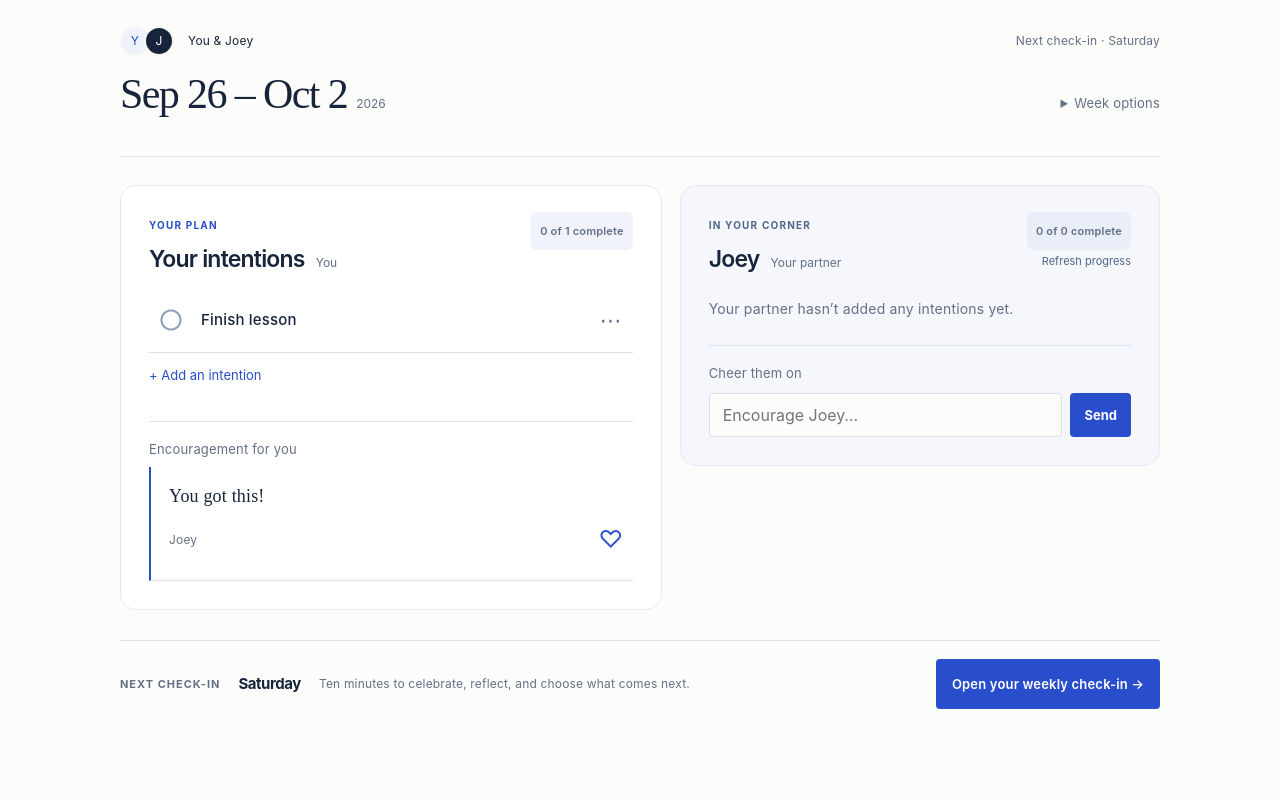
Test: received encouragement stays with own intentions and goal entry remains accessible
Expected: the text "You got this!" is shown, [169,486,264,506]
Click the button "+ Add an intention" at (205, 375), box [149,353,262,397]
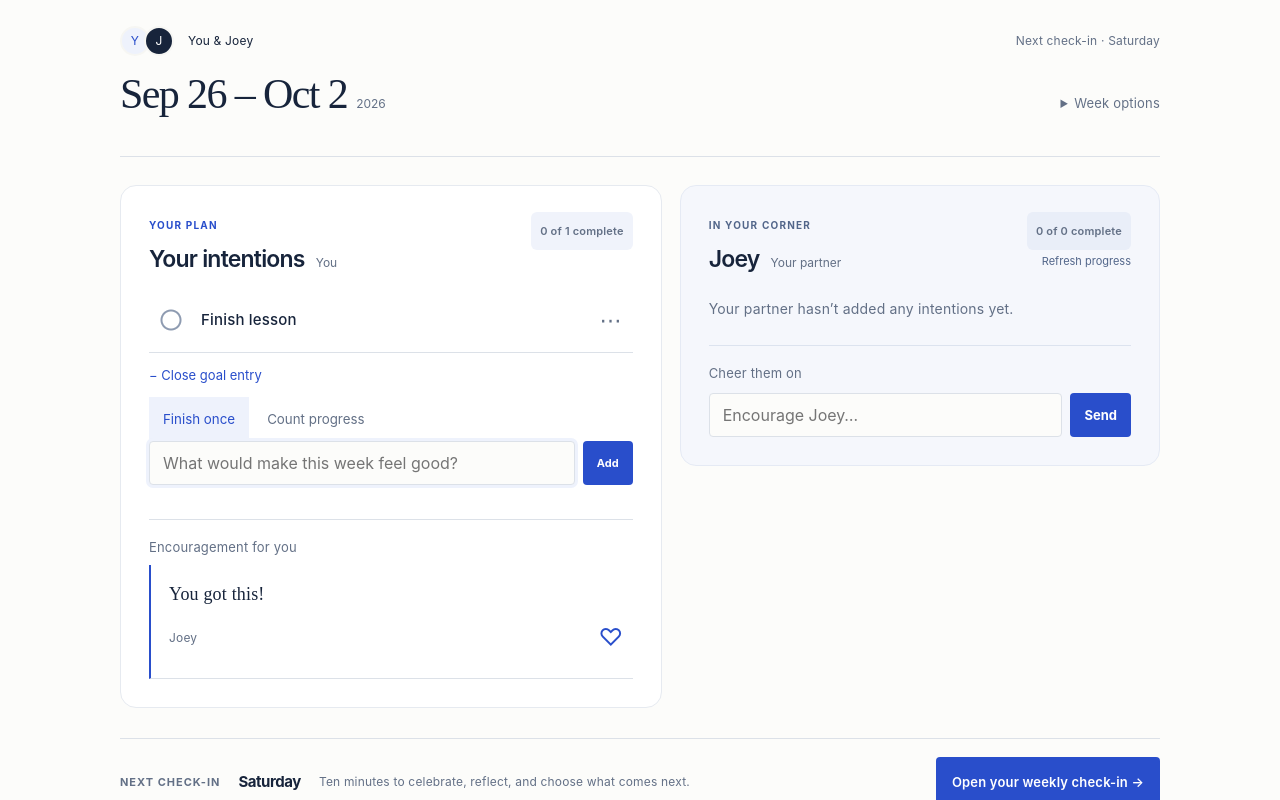
Expected: the field named "One-time intention" is shown, [149,441,575,485]
Click the button "Count progress" at (316, 419), box [253,397,378,441]
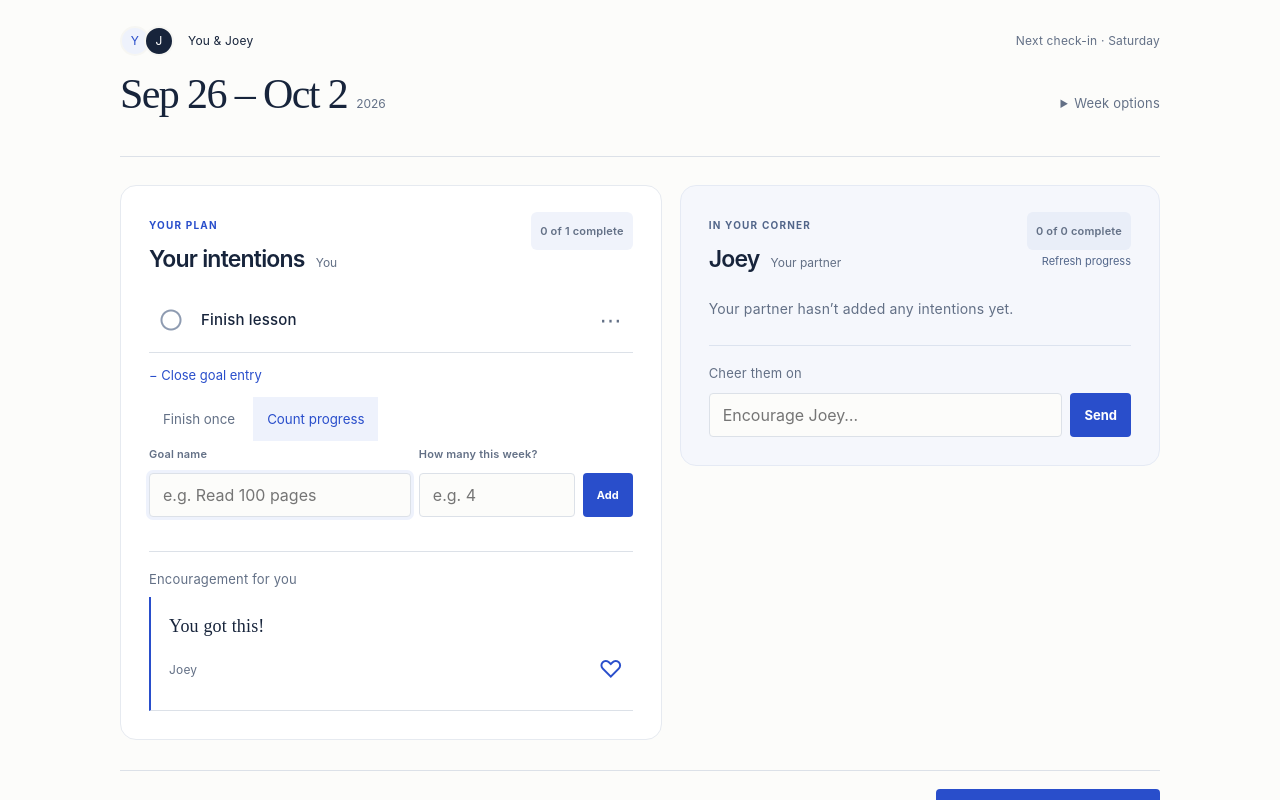
Expected: the text "How many this week?" is shown, [419,447,538,461]
Expected: the number field named "Weekly target" is shown, [419,473,575,517]
